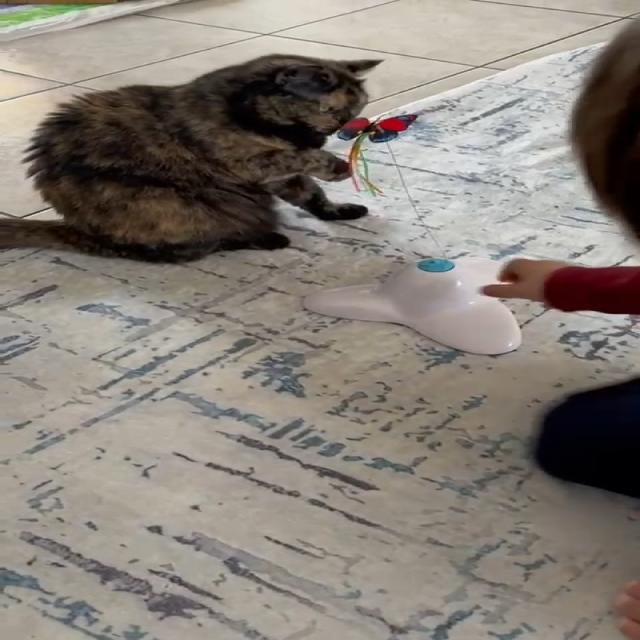authorized: (4, 52, 385, 264)
